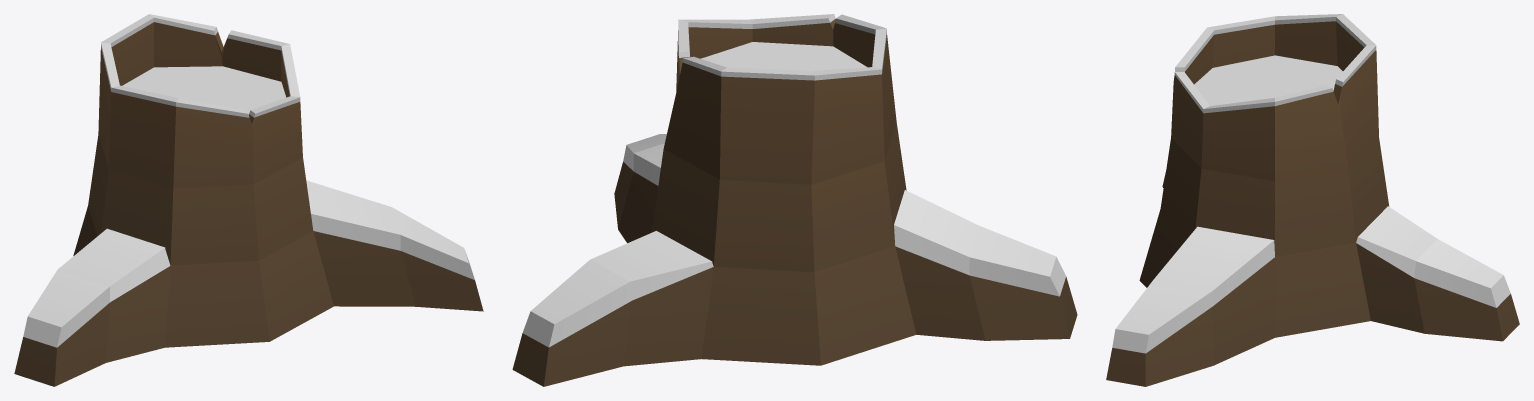
Rendered from Winter_Stump_01.glb.
3 views of the same model, side by side, from view 1: azimuth 30°, elevation 25°; view 2: azimuth 150°, elevation 25°; view 3: azimuth 270°, elevation 25° (orthographic). The views are drawn at different scales.
Visible parts, largest first — view 1: Winter_Stump_01_LOD0; view 2: Winter_Stump_01_LOD0; view 3: Winter_Stump_01_LOD0.
Part boxes in pixels (x1,y1,x2,y2): Winter_Stump_01_LOD0: (14,14,483,386); Winter_Stump_01_LOD0: (512,14,1077,386); Winter_Stump_01_LOD0: (1106,14,1519,386).
Size of what is drawn, in the model's own units: 0.7207 by 0.3905 by 0.609.
Materials: 1 (1 with a texture image).
